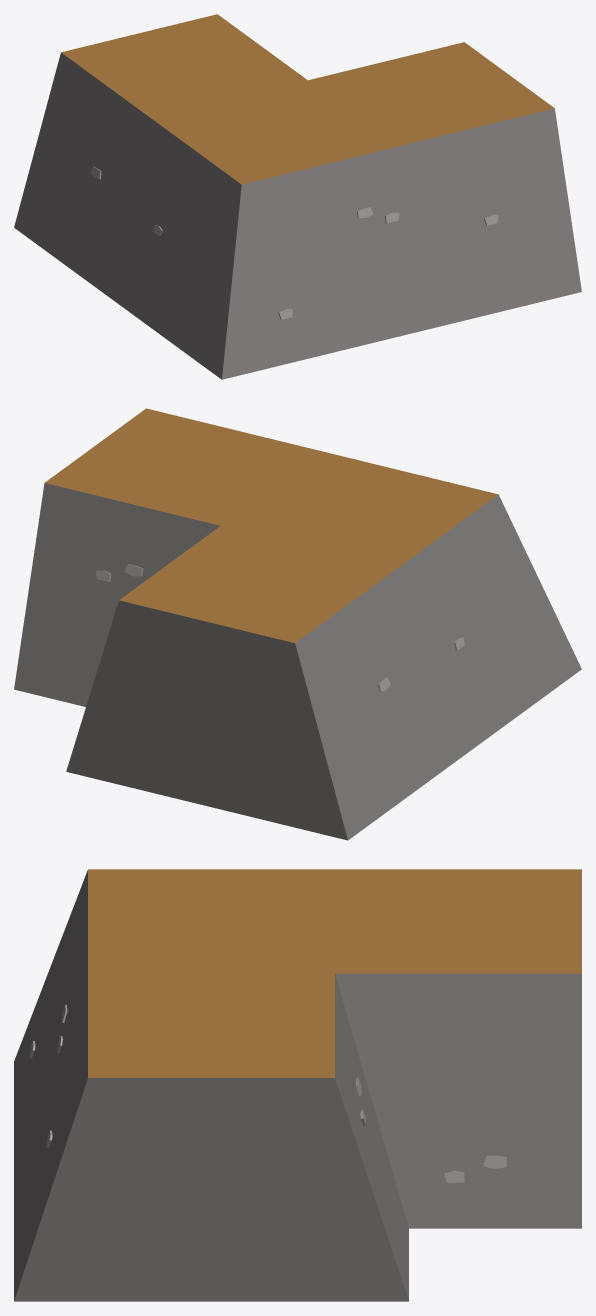
Rendered from japan-base-japan-edge-medium.glb.
The picture shows the model from 3 angles, top to bottom: view 1: azimuth 30°, elevation 25°; view 2: azimuth 150°, elevation 25°; view 3: azimuth 270°, elevation 25°; orthographic projection. The views are drawn at different scales.
Parts seen in each view (by area): view 1: base-japan-edge_medium; view 2: base-japan-edge_medium; view 3: base-japan-edge_medium.
Boxes of the visible parts, x1,y1,x2,y2 form: base-japan-edge_medium: [14, 14, 581, 379]; base-japan-edge_medium: [14, 408, 581, 840]; base-japan-edge_medium: [14, 869, 581, 1301].
Size of the model in its own units: 23 by 10 by 23.
